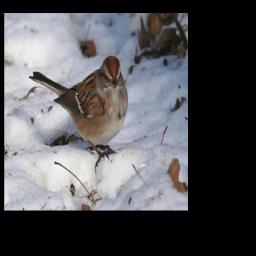Sparrow: (27, 51, 129, 176)
